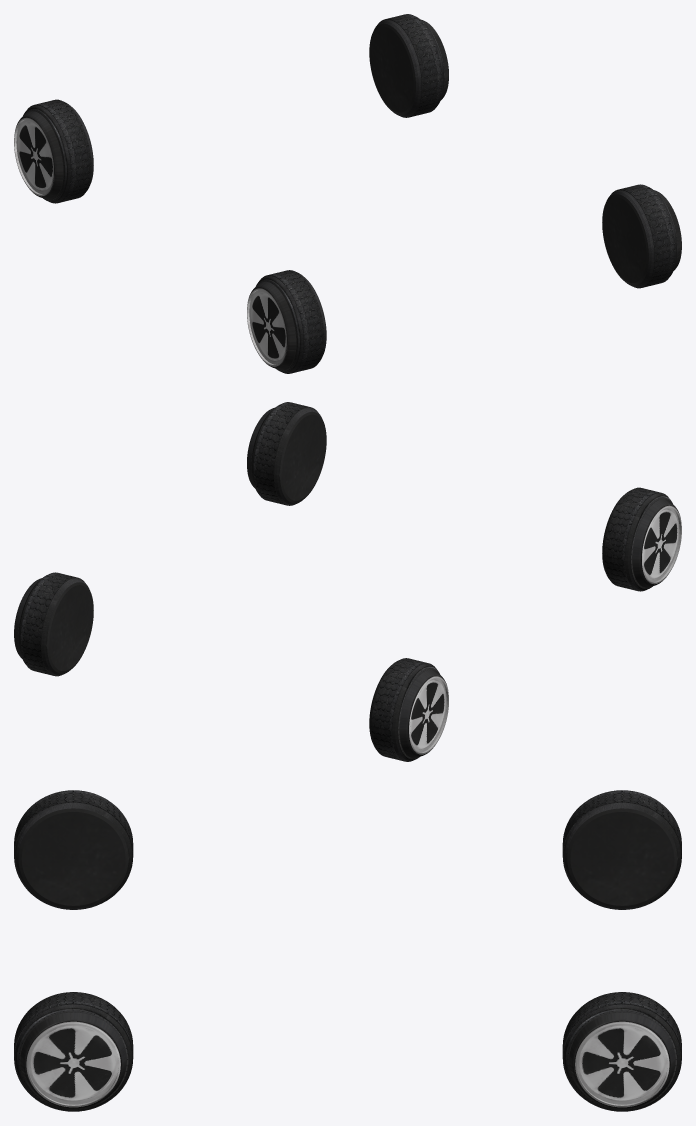
Rendered from RuedasOverBoard.fbx.
3 renders of one model, top to bottom at view 1: azimuth 30°, elevation 25°; view 2: azimuth 150°, elevation 25°; view 3: azimuth 270°, elevation 25°, orthographic. The views are drawn at different scales.
Visible parts, largest first — view 1: Ruedas; view 2: Ruedas; view 3: Ruedas.
Part boxes in pixels (bbox=[...]): Ruedas: bbox=[14, 14, 681, 373]; Ruedas: bbox=[14, 402, 681, 761]; Ruedas: bbox=[14, 790, 681, 1111].
Size of the model in its own units: 156 by 34.47 by 193.
Materials: 1 (1 with a texture image).
